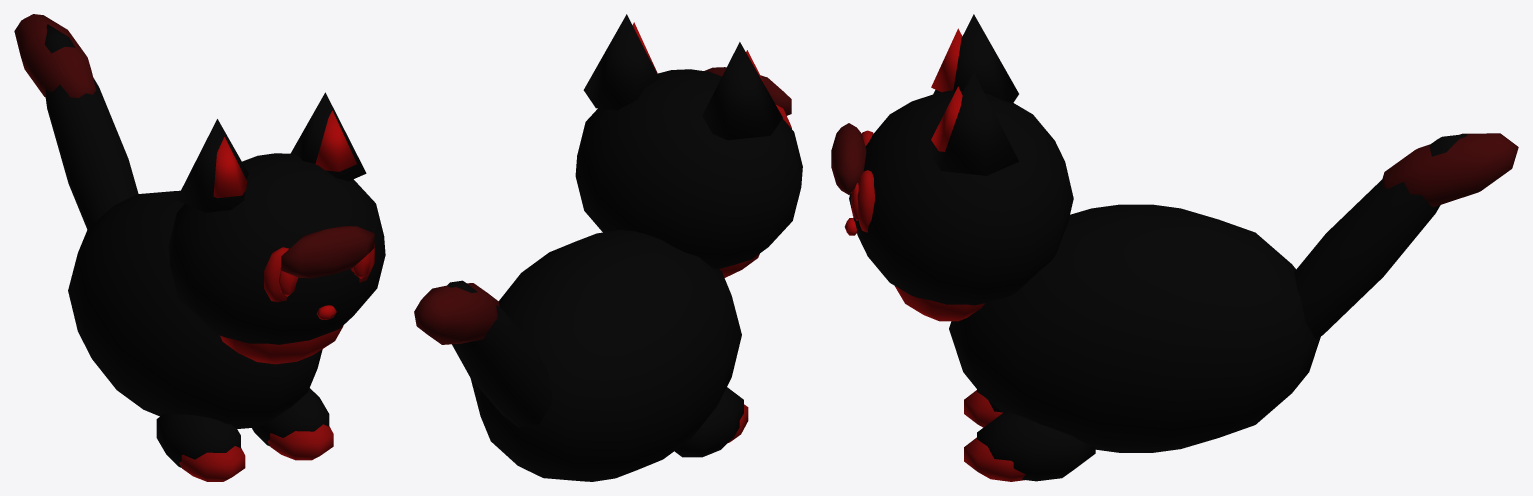
Rendered from cat.glb.
The picture shows the model from 3 angles, left to right: view 1: azimuth 30°, elevation 25°; view 2: azimuth 150°, elevation 25°; view 3: azimuth 270°, elevation 25°; orthographic projection. The views are drawn at different scales.
Parts seen in each view (by area): view 1: body; view 2: body; view 3: body.
Boxes of the visible parts, left/top/right/bottom form: body: left=14, top=14, right=385, bottom=481; body: left=414, top=14, right=802, bottom=481; body: left=831, top=14, right=1518, bottom=481.
Size of the model in its own units: 0.39 by 0.725 by 1.1.
